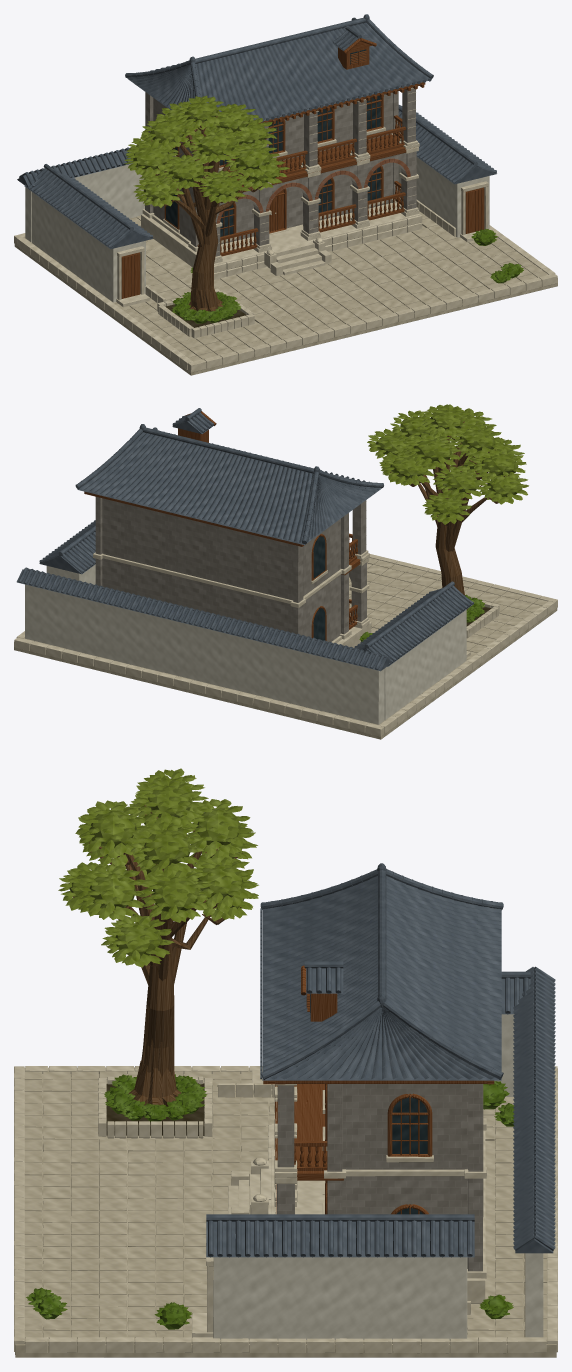
Rendered from zunyi-scene.glb.
3 views of the same model, one above another, from view 1: azimuth 30°, elevation 25°; view 2: azimuth 150°, elevation 25°; view 3: azimuth 270°, elevation 25° (orthographic). The views are drawn at different scales.
Visible parts, largest first — view 1: zunyi-scene-complete-environment; view 2: zunyi-scene-complete-environment; view 3: zunyi-scene-complete-environment.
Part boxes in pixels (x1,y1,x2,y2): zunyi-scene-complete-environment: [14, 14, 557, 375]; zunyi-scene-complete-environment: [14, 404, 557, 739]; zunyi-scene-complete-environment: [14, 768, 557, 1357].
Bounding box in the file's own units: 1 × 0.5559 × 0.7973.
Materials: 12 (12 with a texture image).
